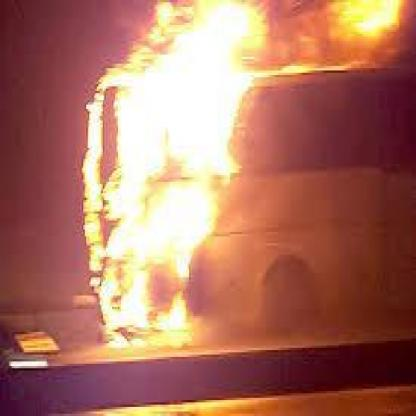fire: (71, 0, 411, 352)
